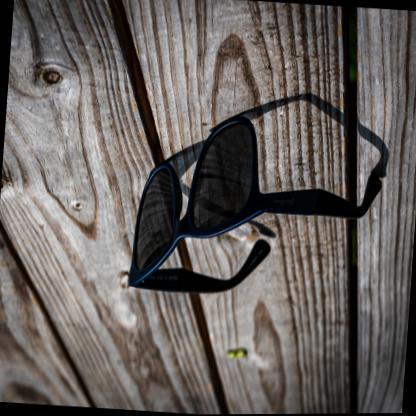Spectacles: (124, 107, 273, 300)
